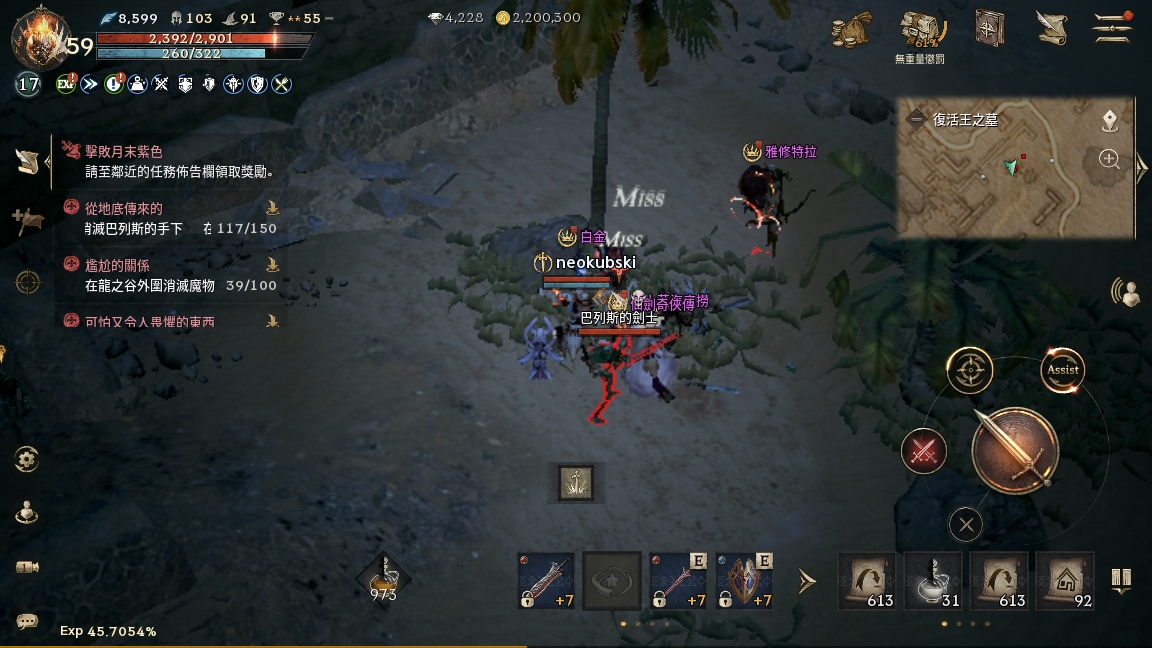enemy: (741, 138, 764, 163), (556, 224, 578, 248), (608, 288, 629, 311)
